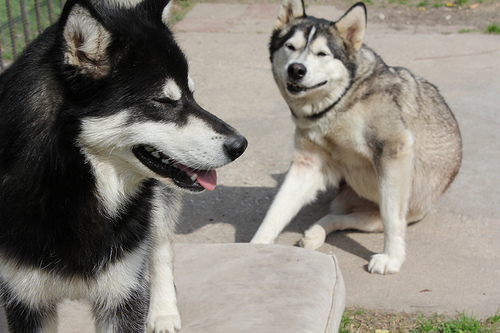dog: (248, 0, 468, 276)
